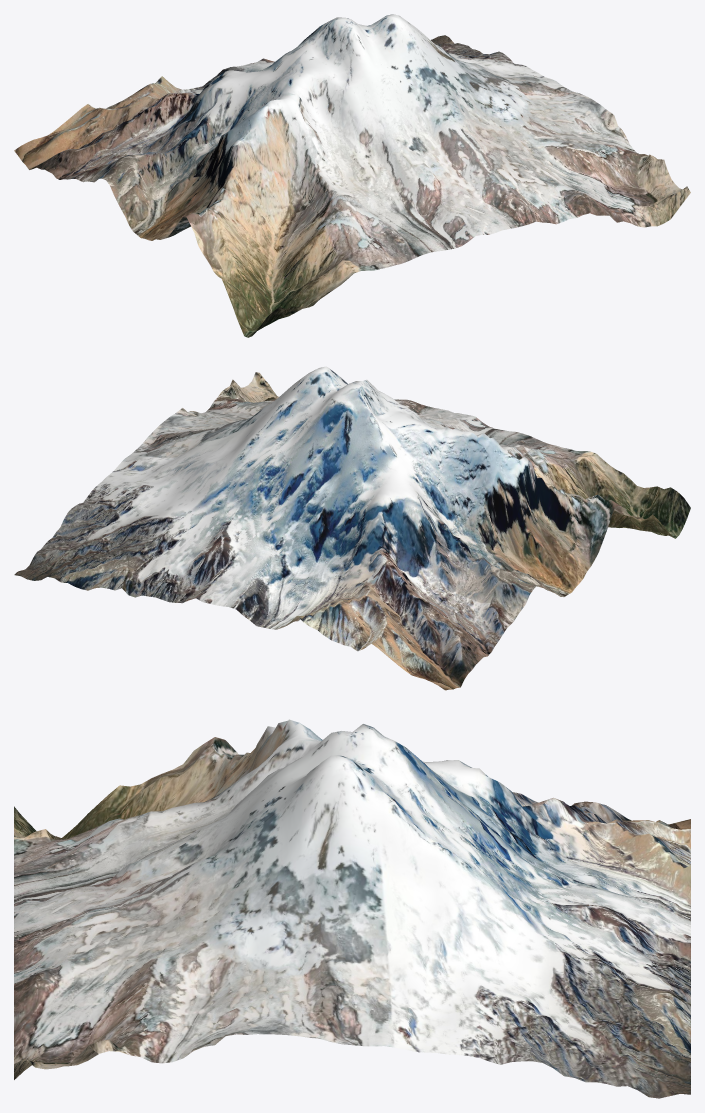
The model's file is elbrus.glb.
The picture shows the model from 3 angles, top to bottom: view 1: azimuth 30°, elevation 25°; view 2: azimuth 150°, elevation 25°; view 3: azimuth 270°, elevation 25°; orthographic projection. The views are drawn at different scales.
Visible parts, largest first — view 1: EXPORT_GOOGLE_SAT_WM; view 2: EXPORT_GOOGLE_SAT_WM; view 3: EXPORT_GOOGLE_SAT_WM.
Boxes of the visible parts, box(x1,y1,x2,y2) form: EXPORT_GOOGLE_SAT_WM: box(14, 14, 690, 337); EXPORT_GOOGLE_SAT_WM: box(14, 366, 690, 690); EXPORT_GOOGLE_SAT_WM: box(14, 719, 690, 1098).
Bounding box in the file's own units: 12359 × 5063 × 12193.
Materials: 1 (1 with a texture image).
